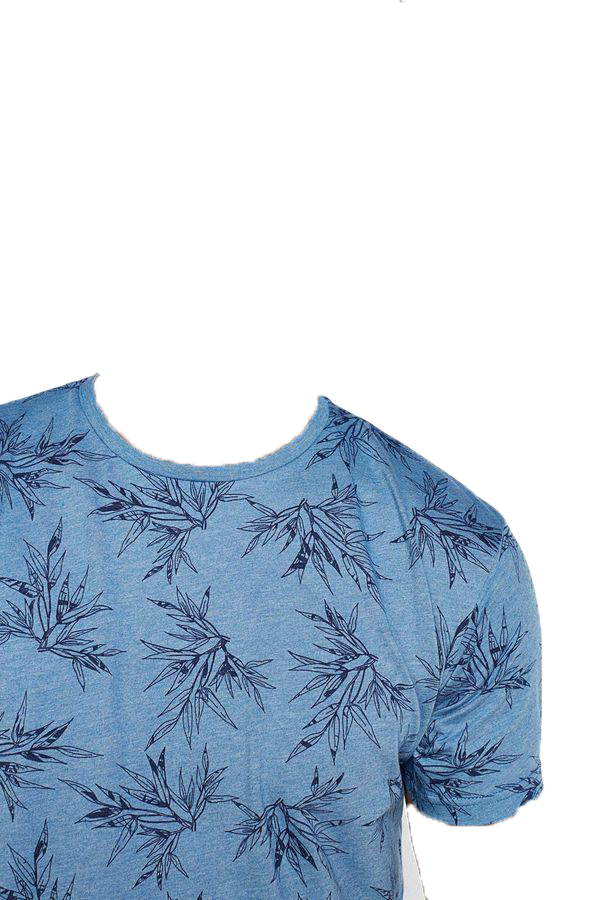teeshirt: (4, 373, 554, 900)
